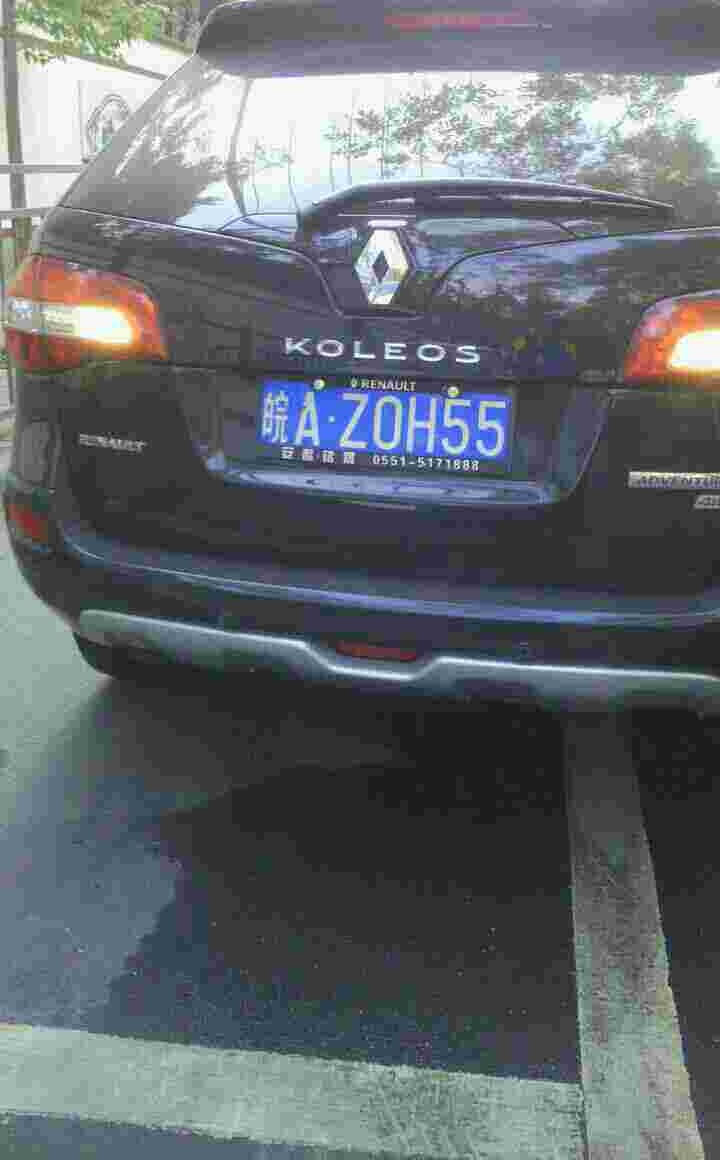license_plate: (259, 375, 504, 467)
